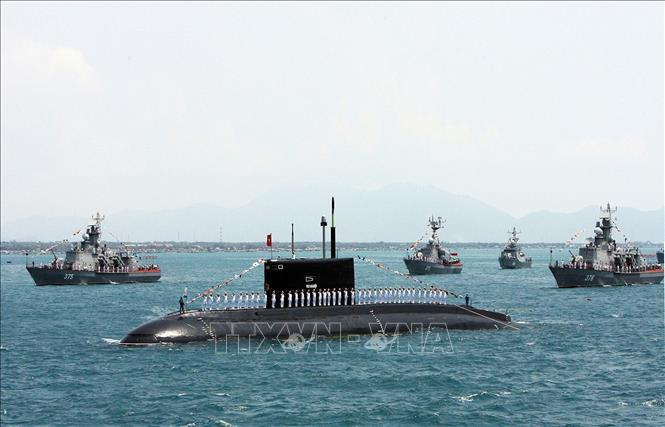MIL_Ship: (22, 210, 164, 288), (544, 210, 665, 289), (401, 216, 464, 276), (495, 225, 535, 271)
